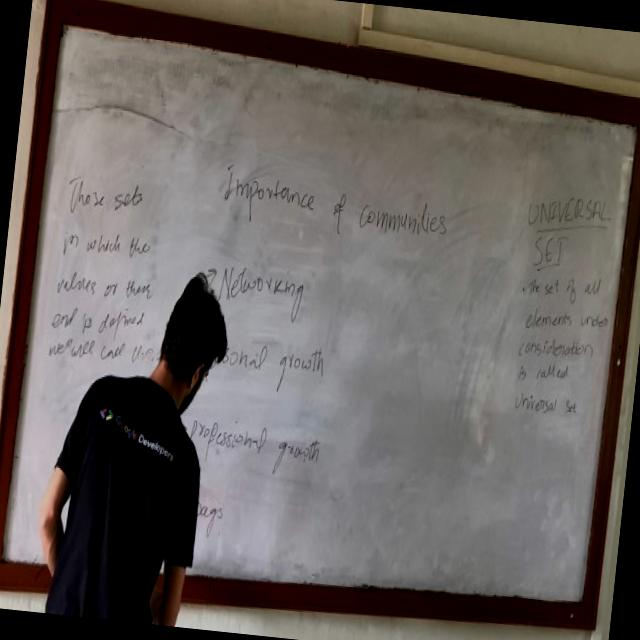Instructor: (66, 242, 242, 628)
White-board: (0, 2, 640, 612)
